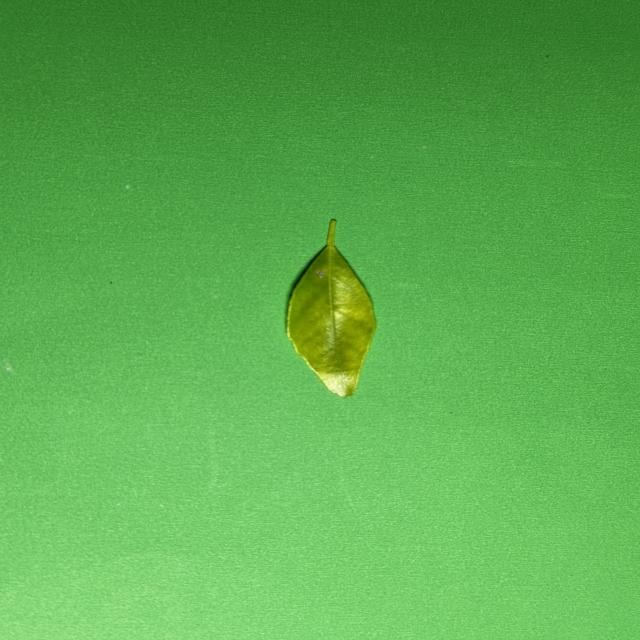greening: (287, 220, 375, 397)
